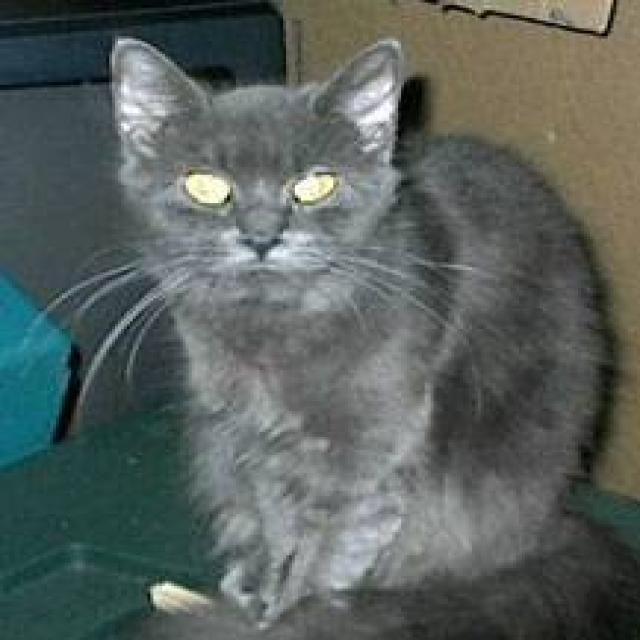cat: (38, 31, 637, 637)
